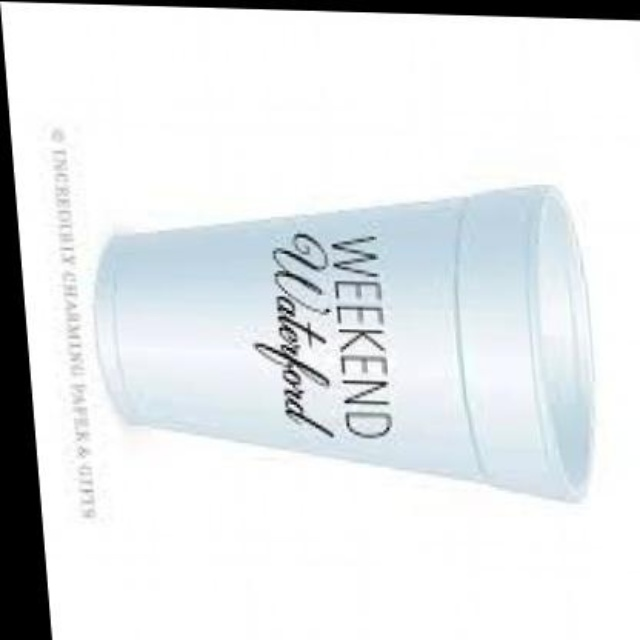trash: (97, 186, 592, 497)
